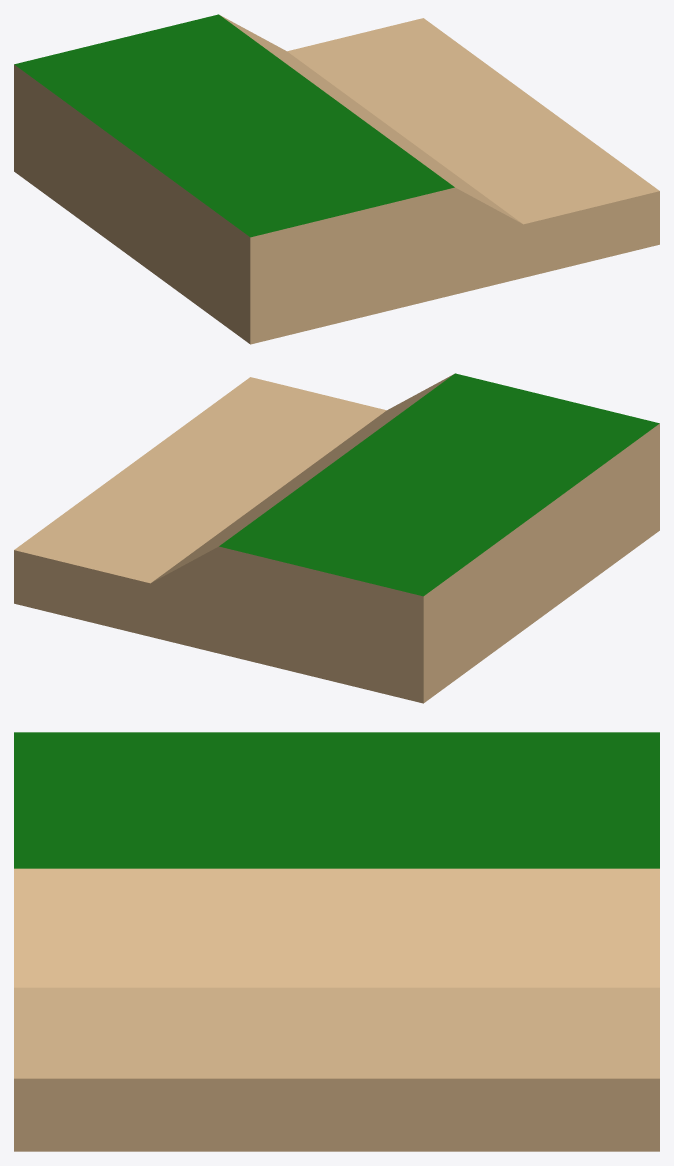
The model's file is tile_extra_wide_edge.glb.
3 views of the same model, one above another, from view 1: azimuth 30°, elevation 25°; view 2: azimuth 150°, elevation 25°; view 3: azimuth 270°, elevation 25° (orthographic). The views are drawn at different scales.
Parts seen in each view (by area): view 1: Plane.022; view 2: Plane.022; view 3: Plane.022.
Part boxes in pixels (x1,y1,x2,y2): Plane.022: (14,14,659,344); Plane.022: (14,373,659,703); Plane.022: (14,732,659,1151).
Bounding box in the file's own units: 2 × 0.5 × 2.
